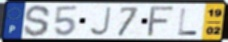5: (53, 5, 80, 37)
7: (117, 6, 141, 37)
F: (145, 5, 177, 38)
J: (88, 6, 113, 37)
L: (177, 7, 200, 37)
S: (22, 4, 52, 38)
